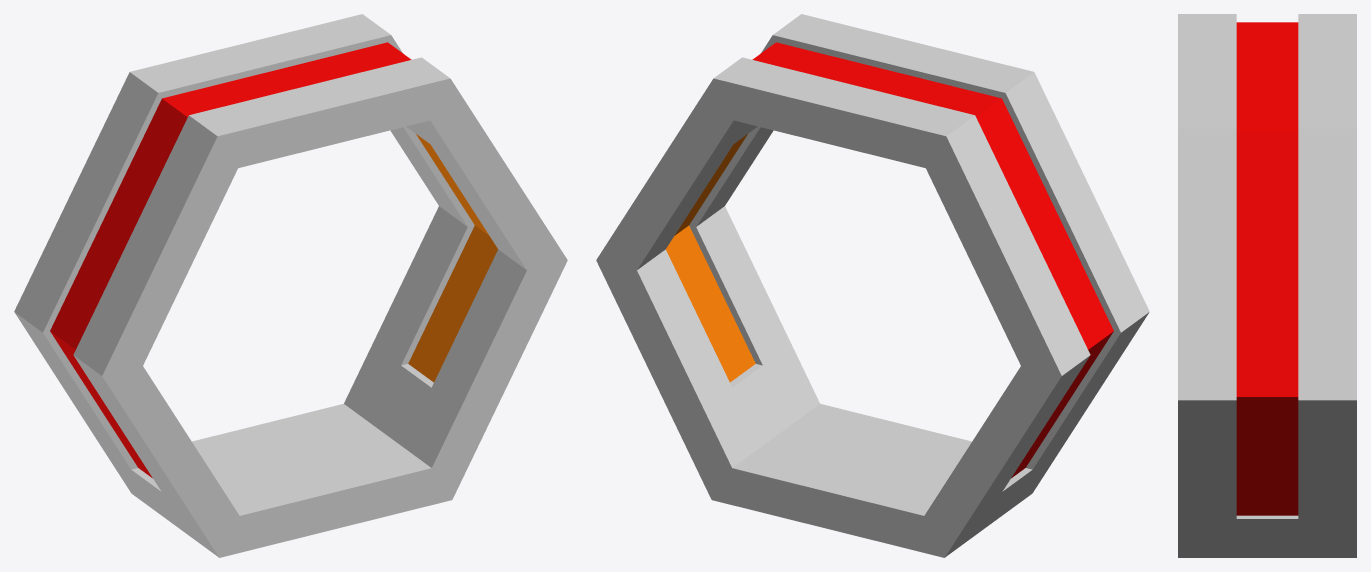
File: bridgesection3.obj
3 views of the same model, side by side, from view 1: azimuth 30°, elevation 25°; view 2: azimuth 150°, elevation 25°; view 3: azimuth 270°, elevation 25° (orthographic).
Visible parts, largest first — view 1: object1; view 2: object1; view 3: object1.
Boxes of the visible parts, <box> form: object1: <box>14,14,567,557</box>; object1: <box>596,14,1149,557</box>; object1: <box>1178,14,1356,557</box>.
Size of the model in its own units: 16.81 by 14.6 by 5.5.
